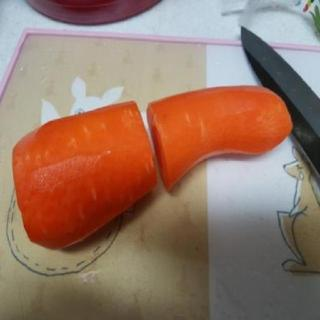carrot: (13, 103, 157, 253), (148, 86, 294, 195)
